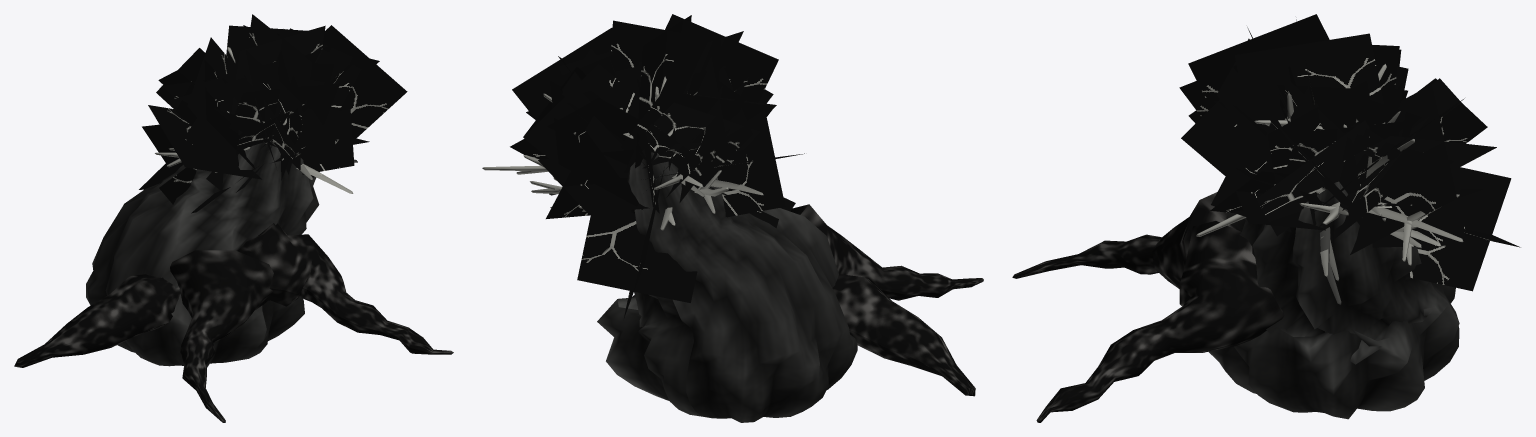
File: ZonTreeDead02.glb
The picture shows the model from 3 angles, left to right: view 1: azimuth 30°, elevation 25°; view 2: azimuth 150°, elevation 25°; view 3: azimuth 270°, elevation 25°; orthographic projection. The views are drawn at different scales.
Parts seen in each view (by area): view 1: ZonTreeDead02_limbs; view 2: ZonTreeDead02_limbs; view 3: ZonTreeDead02_limbs.
Part boxes in pixels (x1,y1,x2,y2): ZonTreeDead02_limbs: (14,14,453,422); ZonTreeDead02_limbs: (482,14,983,422); ZonTreeDead02_limbs: (1012,14,1520,422).
Size of the model in its own units: 6.31 by 4.9 by 5.51.
4 materials, 3 textured.
